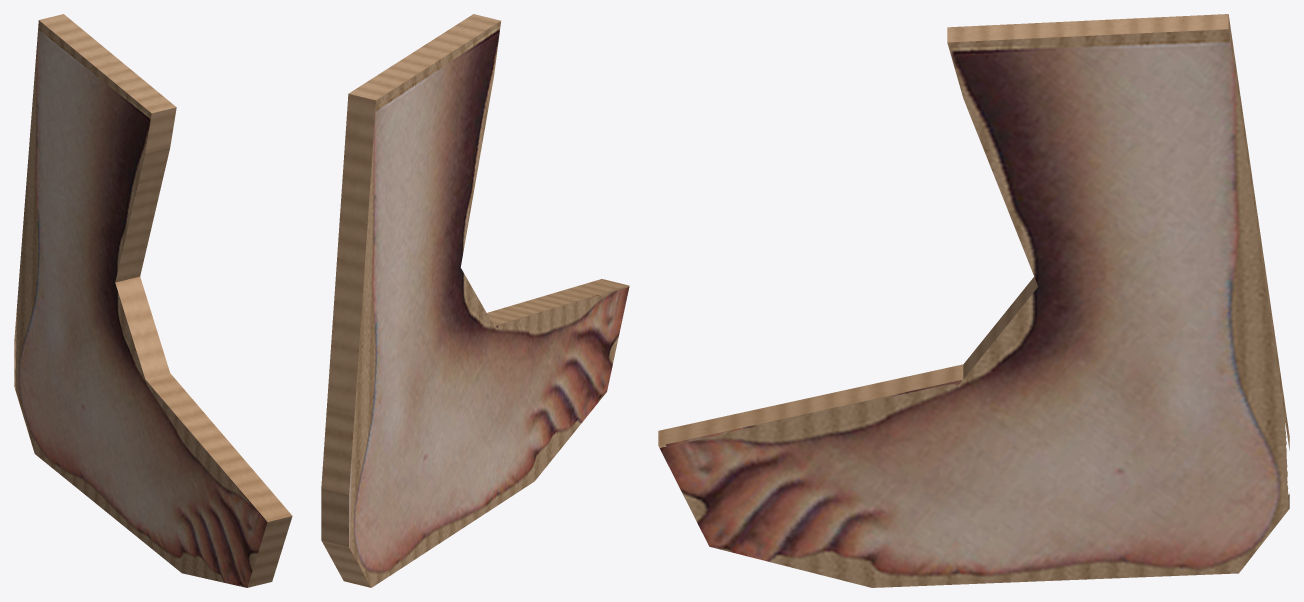
File: Foot.dae
3 views of the same model, side by side, from view 1: azimuth 30°, elevation 25°; view 2: azimuth 150°, elevation 25°; view 3: azimuth 270°, elevation 25° (orthographic). The views are drawn at different scales.
Visible parts, largest first — view 1: SketchUp (×2); view 2: SketchUp (×2); view 3: SketchUp (×2).
Boxes of the visible parts, x1,y1,x2,y2 form: SketchUp (×2): (14, 14, 292, 587); SketchUp (×2): (321, 14, 629, 587); SketchUp (×2): (658, 14, 1289, 587).
Size of the model in its own units: 2.22 by 38.97 by 38.07.
2 materials, 2 textured.
